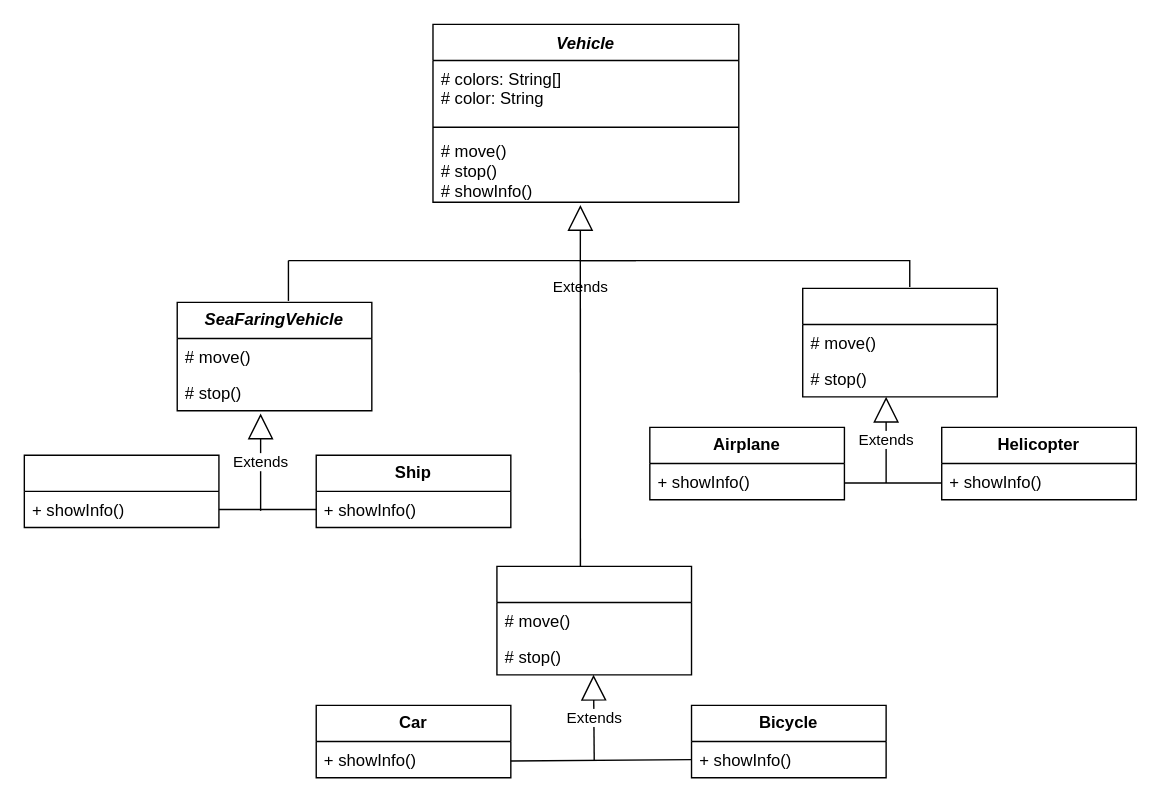
Some shapes in this 1161 by 810 pixel diagram are drawn without their labels. Each missing label, with the box of its shape:
Boat: (23, 454, 219, 528)
FlyingVehicle: (801, 287, 997, 397)
LandVehicle: (496, 565, 692, 675)
